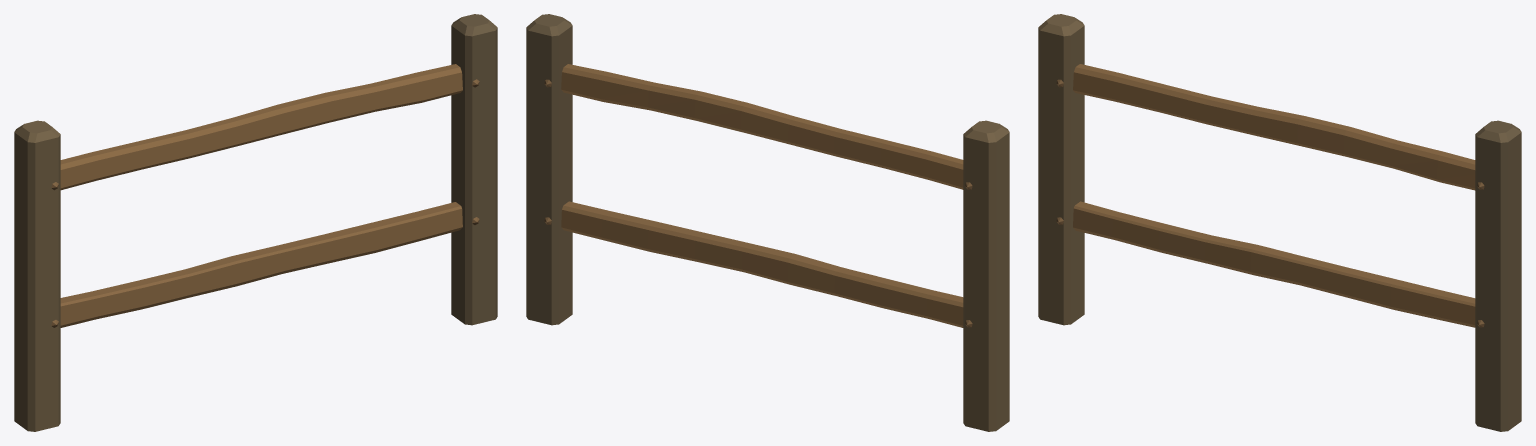
The model's file is split-rail-fence-run-87da39.glb.
The picture shows the model from 3 angles, left to right: view 1: azimuth 30°, elevation 25°; view 2: azimuth 150°, elevation 25°; view 3: azimuth 330°, elevation 25°; orthographic projection.
Visible parts, largest first — view 1: fence; view 2: fence; view 3: fence.
Part boxes in pixels (box(x1,y1,x2,y2)): fence: box(14, 14, 497, 431); fence: box(526, 14, 1009, 431); fence: box(1038, 14, 1521, 431).
Bounding box in the file's own units: 2 × 1.2 × 0.164.
